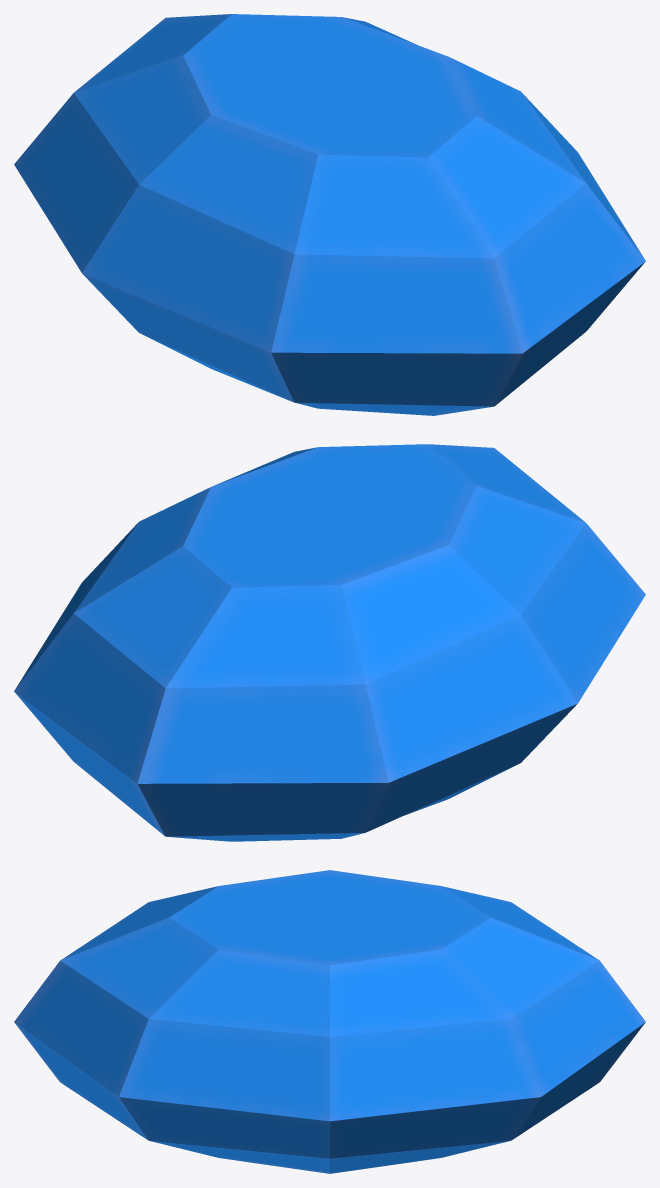
The model's file is Gem03_Art.glb.
The picture shows the model from 3 angles, top to bottom: view 1: azimuth 30°, elevation 25°; view 2: azimuth 150°, elevation 25°; view 3: azimuth 270°, elevation 25°; orthographic projection. The views are drawn at different scales.
Visible parts, largest first — view 1: Gem03_Art; view 2: Gem03_Art; view 3: Gem03_Art.
Boxes of the visible parts, <box> form: Gem03_Art: <box>14,14,645,415</box>; Gem03_Art: <box>14,444,645,841</box>; Gem03_Art: <box>14,870,645,1173</box>.
Bounding box in the file's own units: 0.2884 × 0.1412 × 0.3877.
Materials: 1 (1 with a texture image).
